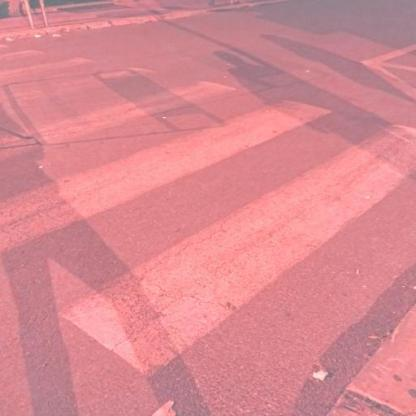crosswalk: (2, 95, 416, 384)
